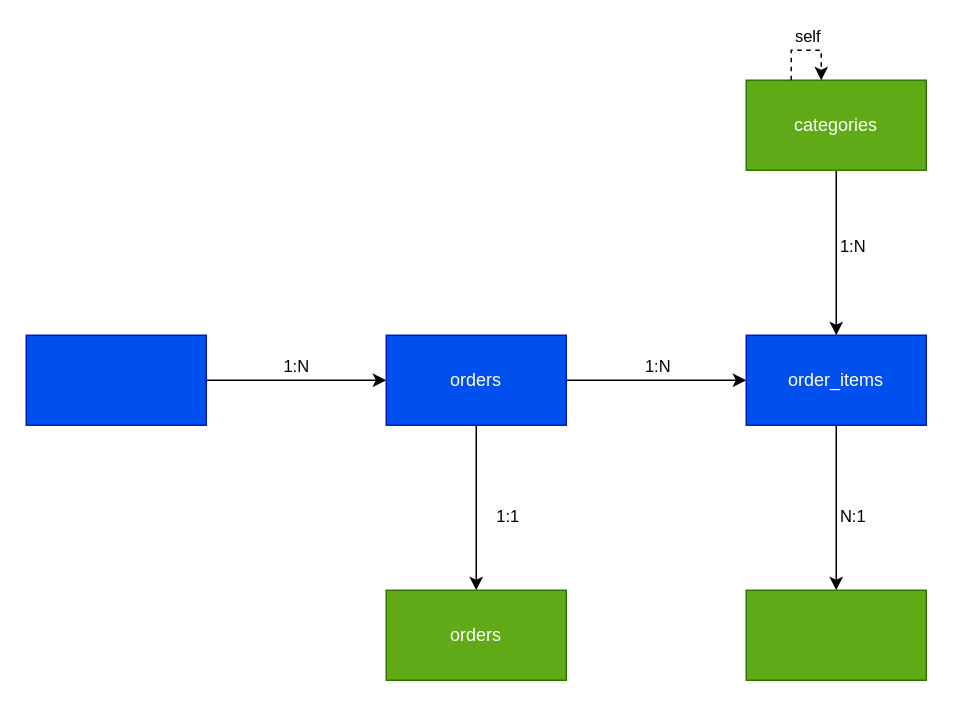
Some shapes in this 953 by 707 pixel diagram are drawn without their labels. Here are the shapes that lost their labels. From the top down, the centre of each, then its label:
At [115,379]: "users".
At [835,634]: "products".
